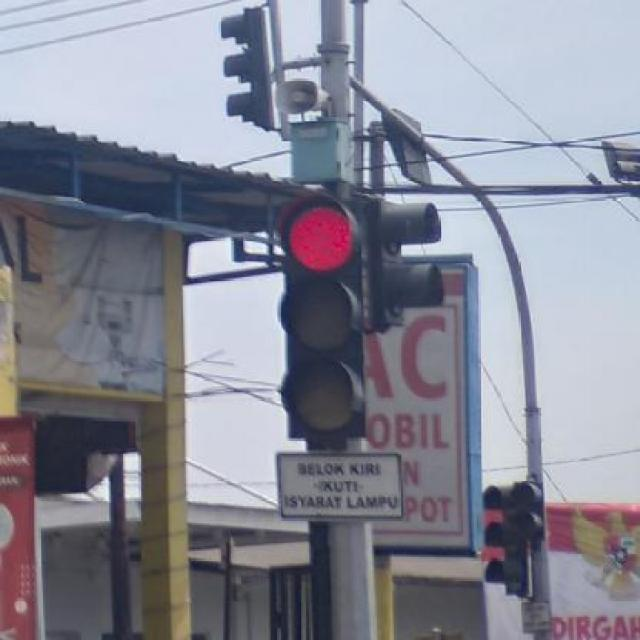traffic light: (283, 195, 385, 437)
